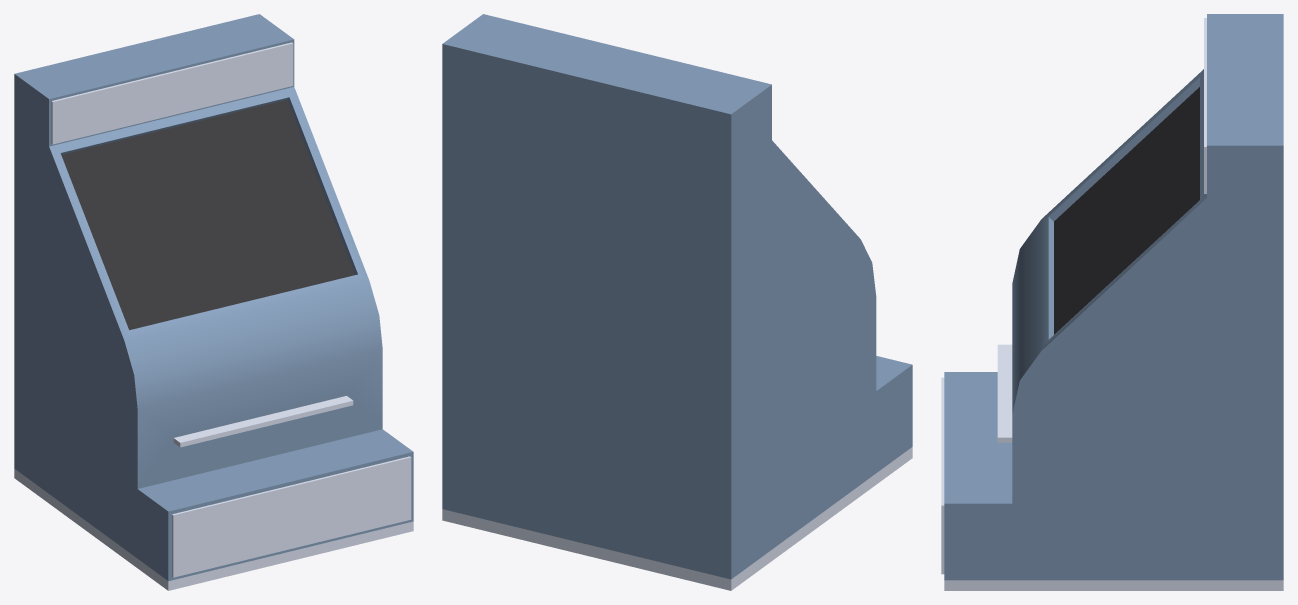
The model's file is Register_Mesh.fbx.
The picture shows the model from 3 angles, left to right: view 1: azimuth 30°, elevation 25°; view 2: azimuth 150°, elevation 25°; view 3: azimuth 270°, elevation 25°; orthographic projection. The views are drawn at different scales.
Visible parts, largest first — view 1: Register; view 2: Register; view 3: Register.
Part boxes in pixels (left/top/right/bottom): Register: left=14, top=14, right=413, bottom=590; Register: left=442, top=14, right=912, bottom=590; Register: left=941, top=14, right=1283, bottom=590.
Size of the model in its own units: 21.12 by 33.3 by 23.18.
